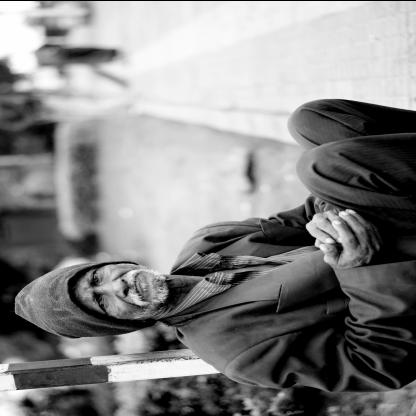Eye: (93, 294, 110, 312), (88, 268, 102, 284)
Mouth: (128, 273, 146, 301)
Nose: (98, 276, 127, 298)
